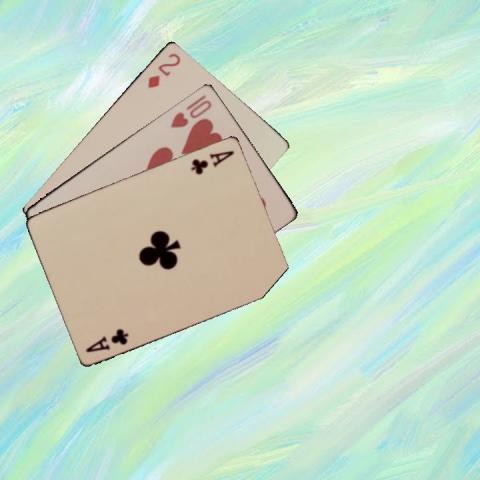10h: (168, 90, 214, 128)
2d: (145, 50, 182, 90)
Ac: (188, 148, 235, 176), (83, 326, 130, 354)
